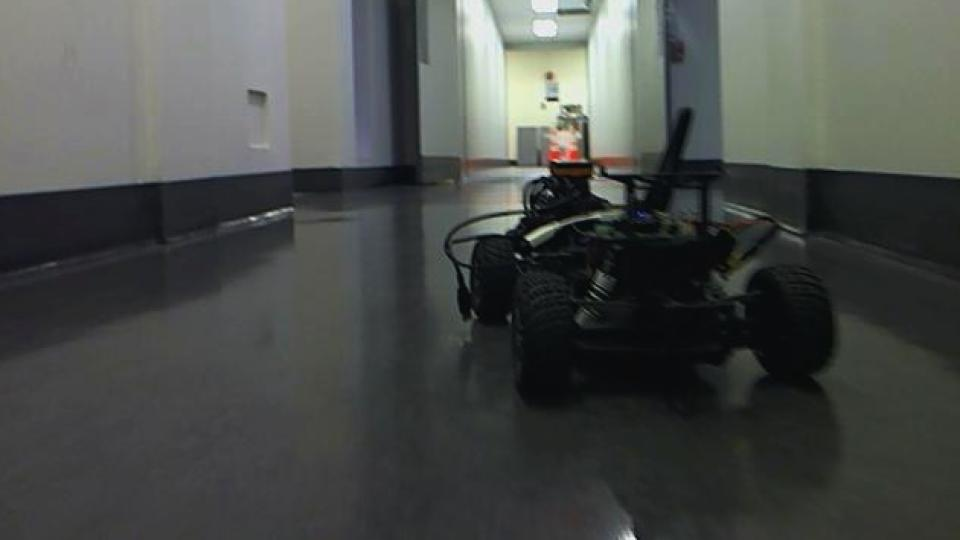car: (439, 99, 838, 409)
